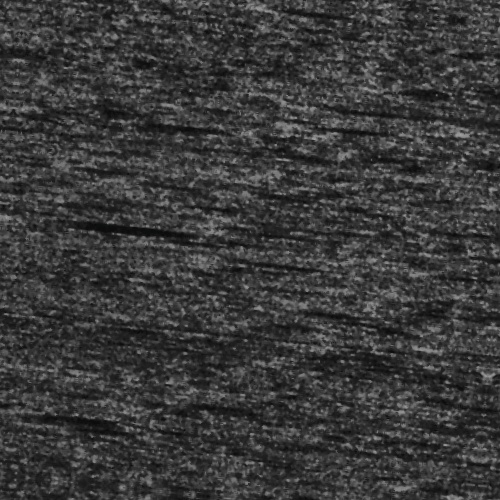object: (0, 232, 70, 243), (0, 429, 65, 440)
shadow: (18, 232, 158, 243), (8, 429, 106, 440)
